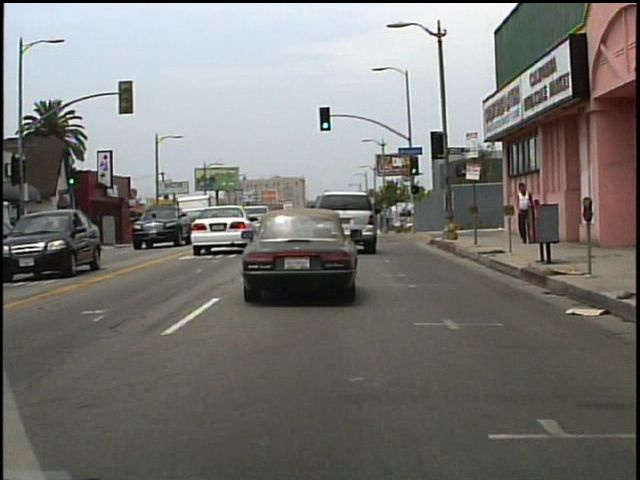person: (513, 179, 536, 245)
